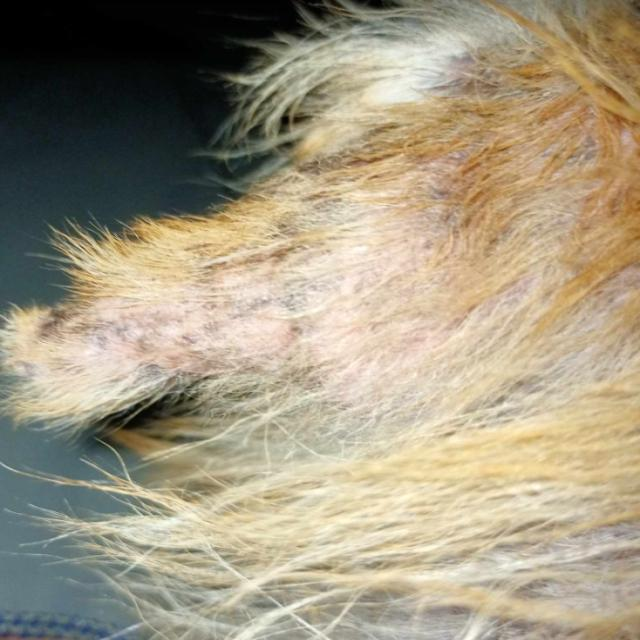demodicosis: (65, 270, 399, 368)
